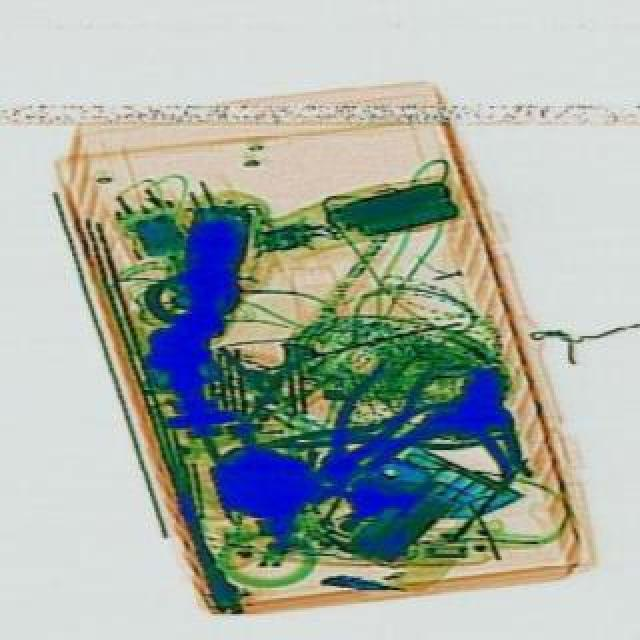wrench: (296, 336, 436, 496), (244, 390, 506, 470)
